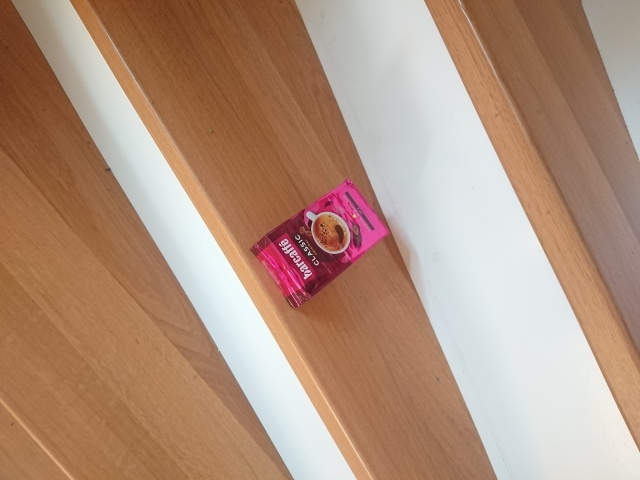Barcaffe Classic Original 225g: (247, 176, 392, 311)
